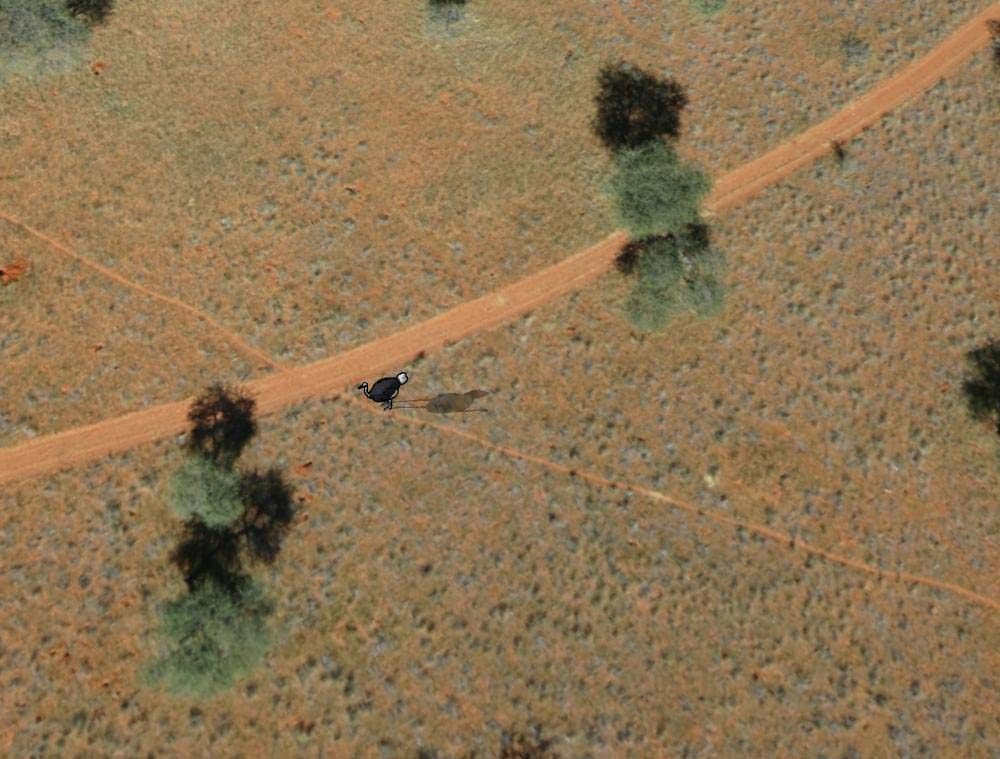ostrich: (355, 370, 414, 412)
